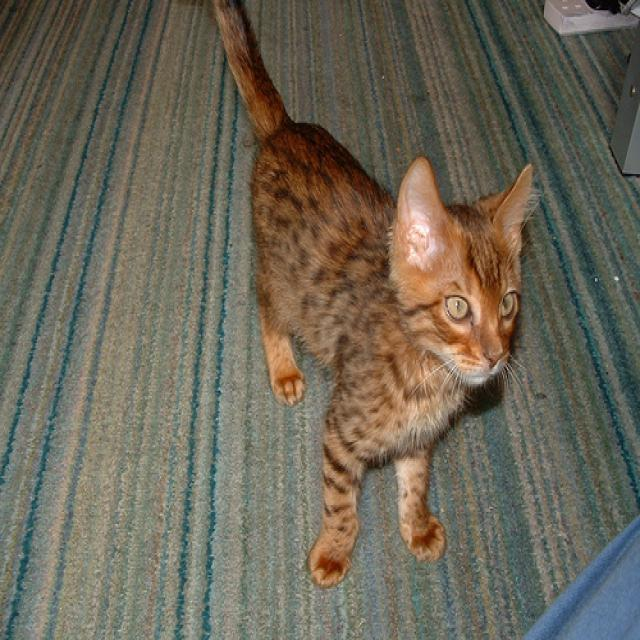Bengal: (388, 154, 533, 388)
